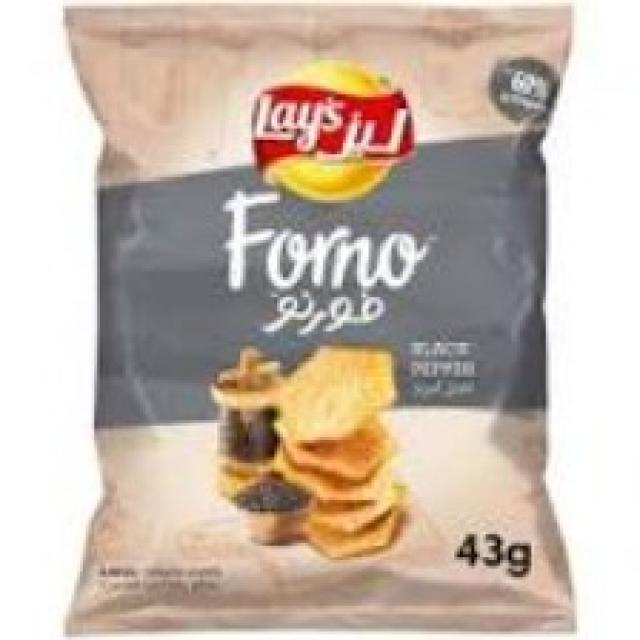plastic: (66, 20, 596, 640)
